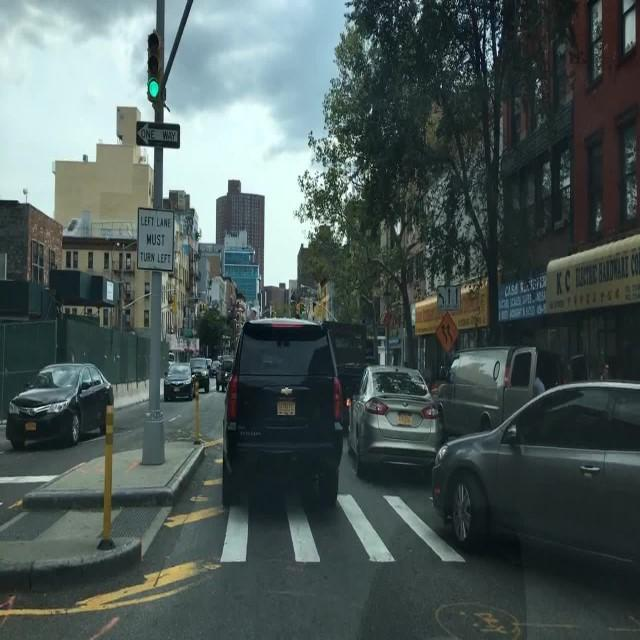normal: (200, 292, 366, 543), (431, 376, 640, 563), (427, 348, 569, 454), (343, 366, 440, 481), (6, 363, 116, 451), (162, 364, 196, 401)
